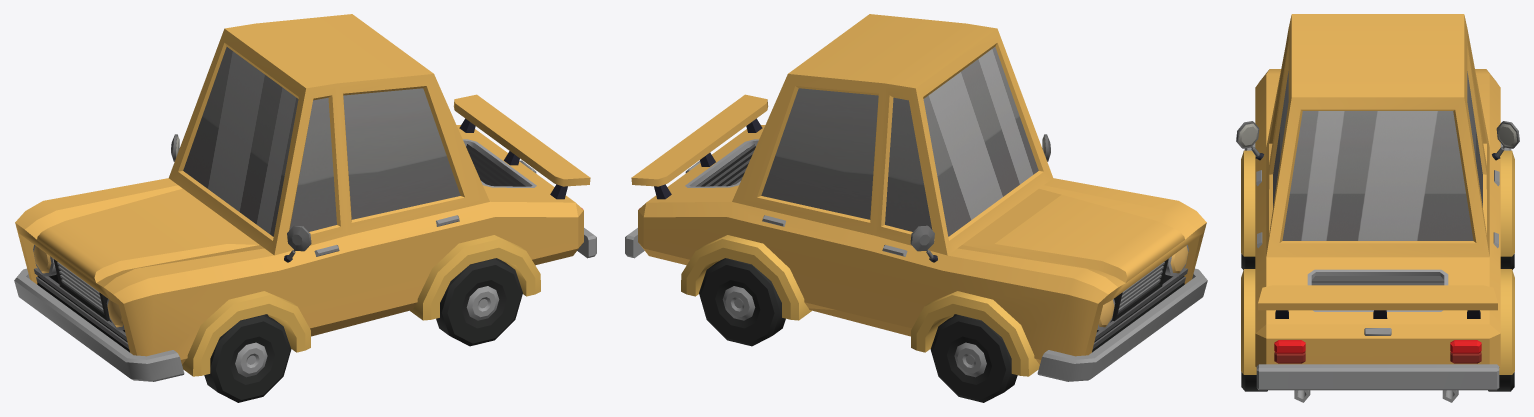
Rendered from Car_6_H.gltf.
3 renders of one model, left to right at view 1: azimuth 30°, elevation 25°; view 2: azimuth 150°, elevation 25°; view 3: azimuth 270°, elevation 25°, orthographic. The views are drawn at different scales.
Visible parts, largest first — view 1: Car_6_H, RL, FL; view 2: Car_6_H, RR, FR; view 3: Car_6_H, RL, RR.
Part boxes in pixels (box(x1,y1,x2,y2)): Car_6_H: box(14, 14, 596, 381); RL: box(436, 258, 522, 346); FL: box(204, 314, 291, 402); Car_6_H: box(625, 14, 1207, 381); RR: box(699, 258, 785, 346); FR: box(930, 314, 1017, 402); Car_6_H: box(1236, 14, 1519, 402); RL: box(1241, 372, 1267, 391); RR: box(1488, 372, 1514, 391).
Bounding box in the file's own units: 3.1 × 1.72 × 1.51.
Materials: 4 (4 with a texture image).
